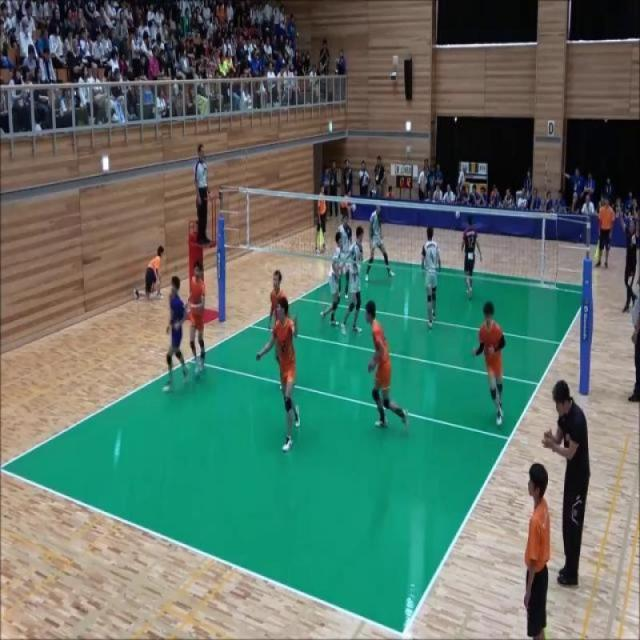volleyball: (351, 203, 357, 212), (455, 210, 460, 220)
